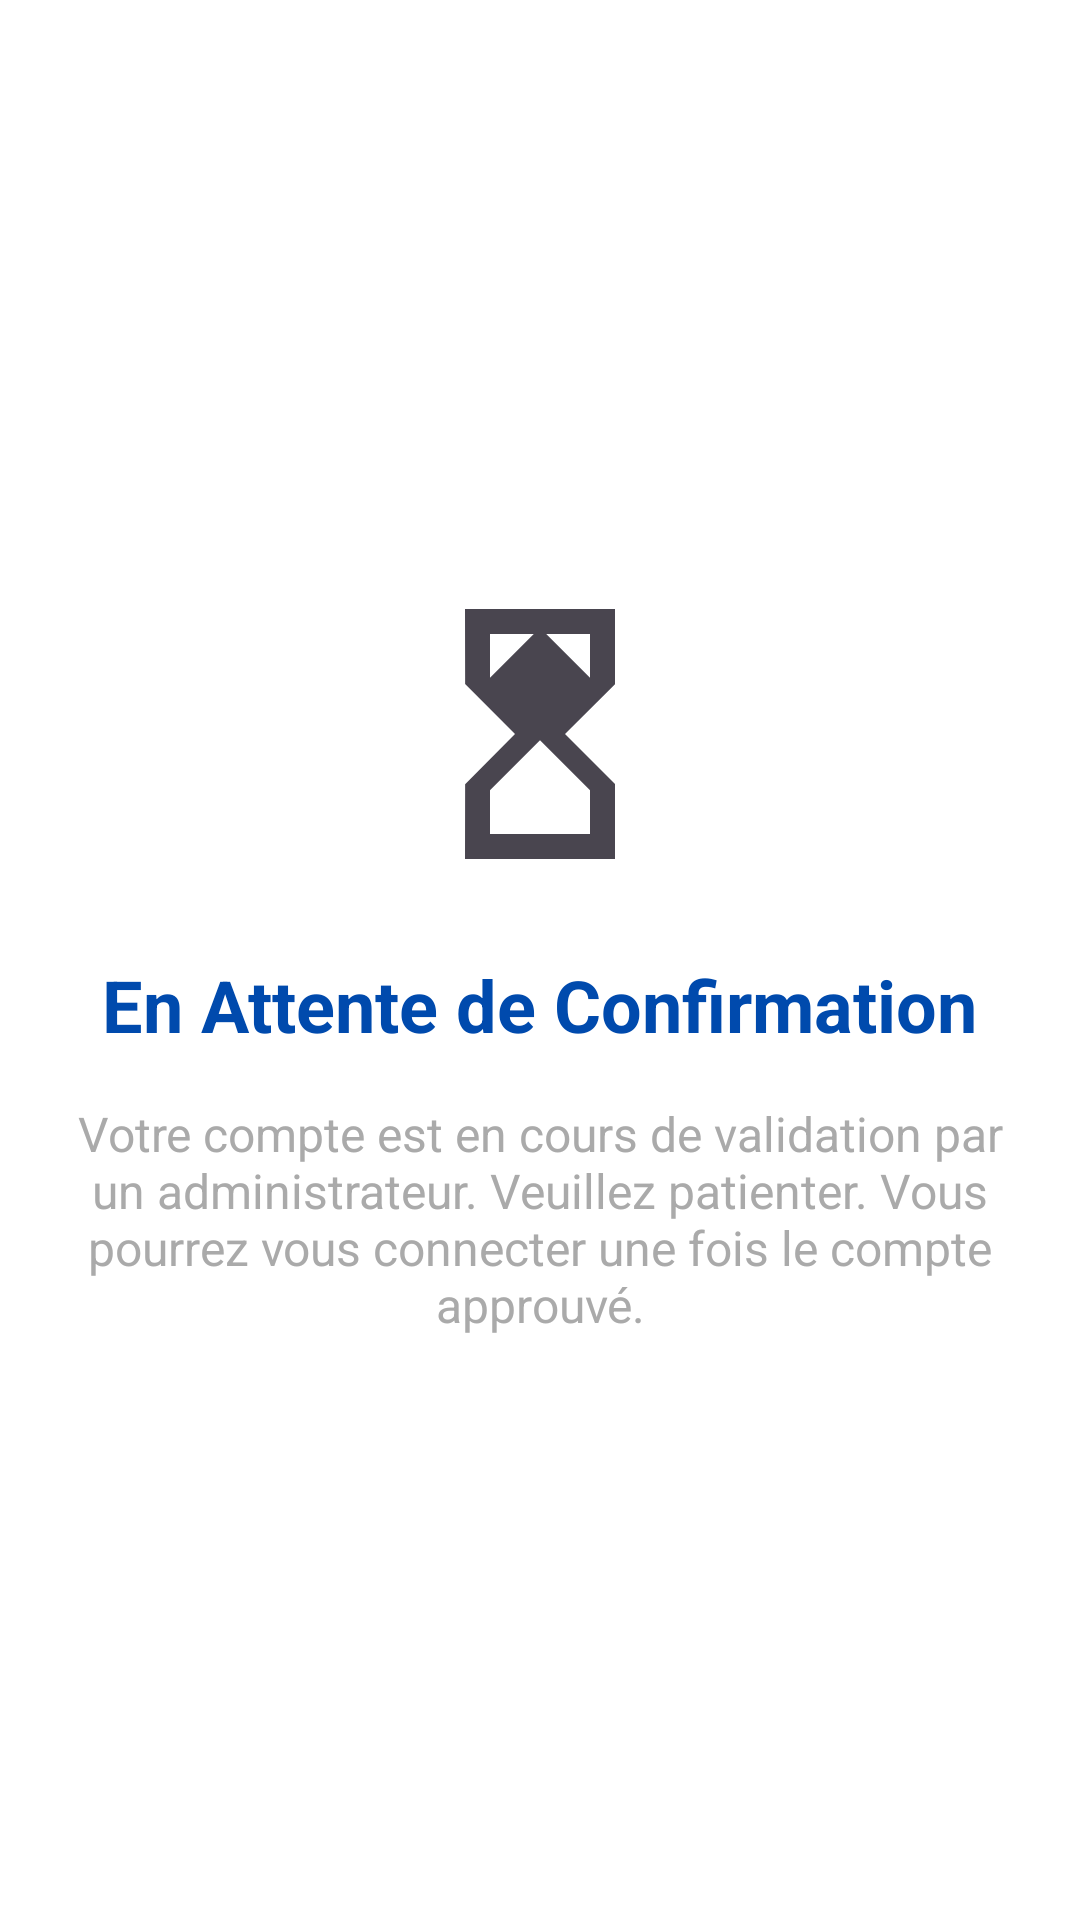

Screen size 1080×1920. Icon name, then its box in pixels as [x1, y1, x2, y2]:
Icône d'attente: [465, 609, 615, 859]
